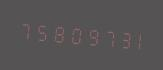eight: (49, 17, 64, 48)
five: (33, 15, 48, 47)
nine: (81, 20, 96, 51)
one: (129, 24, 144, 55)
seven: (17, 14, 32, 45), (97, 21, 112, 52)
three: (113, 22, 128, 54)
zero: (65, 18, 80, 49)
